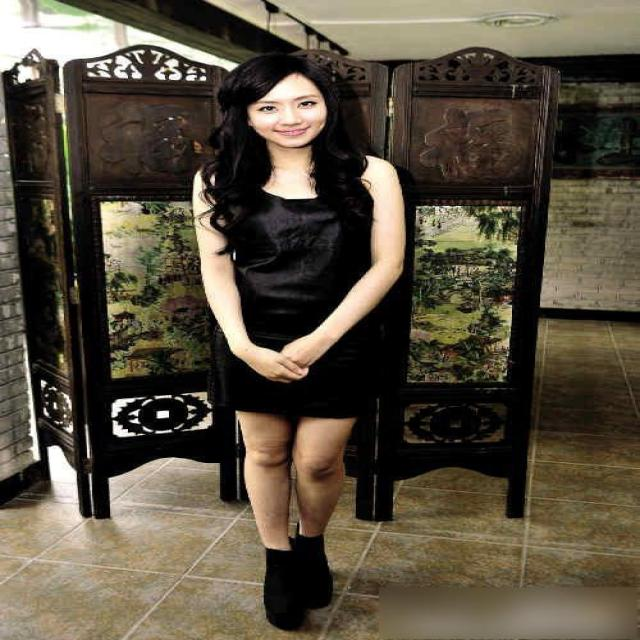obstacle: (107, 49, 454, 624)
